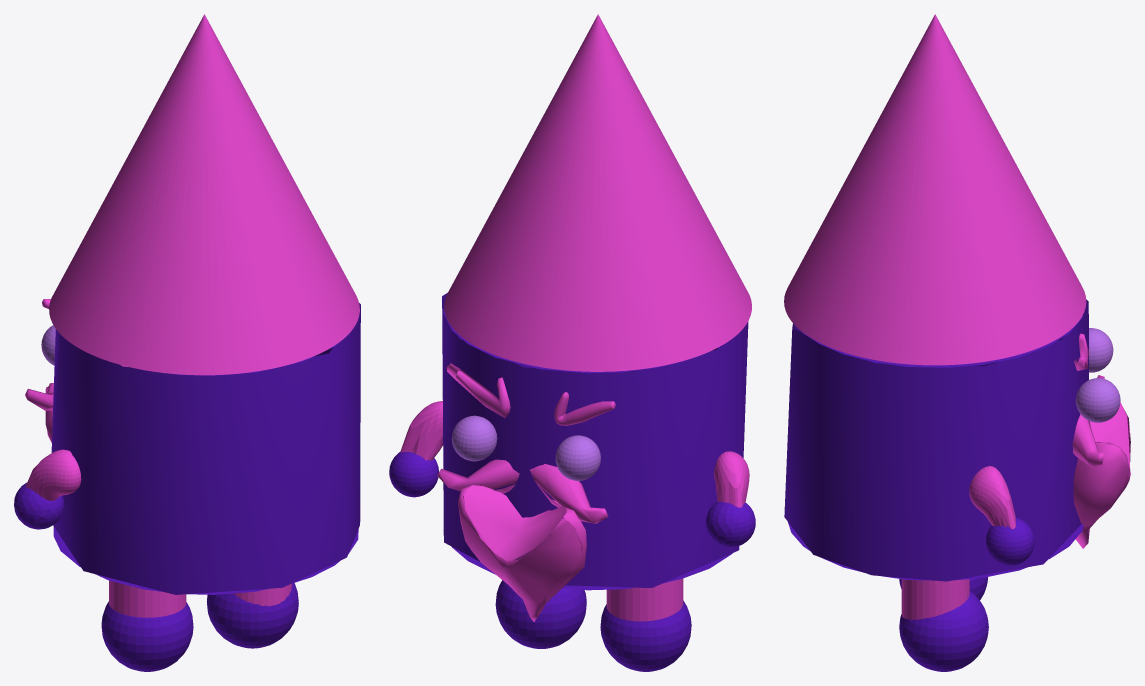
Rendered from gnommeel.fbx.
3 renders of one model, left to right at view 1: azimuth 30°, elevation 25°; view 2: azimuth 150°, elevation 25°; view 3: azimuth 270°, elevation 25°, orthographic. The views are drawn at different scales.
Visible parts, largest first — view 1: mesh_id29, mesh_id27, Сфера.002, Сфера.001, Цилиндр, Сфера.005, Сфера.007, Цилиндр.001, node_id38; view 2: mesh_id27, mesh_id29, node_id38, Сфера.002, Сфера.001, Цилиндр, Сфера.007, Сфера.006, Сфера, Сфера.003, Сфера.004, Сфера.005 (+2 smaller); view 3: mesh_id27, mesh_id29, node_id38, Сфера.001, Цилиндр.001, Сфера, Сфера.006, Сфера.003, Сфера.004.
Boxes of the visible parts, x1,y1,x2,y2 form: mesh_id29: (51, 303, 360, 594); mesh_id27: (49, 14, 359, 375); Сфера.002: (101, 601, 193, 671); Сфера.001: (207, 583, 298, 648); Цилиндр: (109, 580, 186, 617); Сфера.005: (26, 449, 81, 500); Сфера.007: (14, 482, 64, 529); Цилиндр.001: (234, 583, 291, 606); node_id38: (25, 365, 127, 442); mesh_id27: (444, 14, 751, 371); mesh_id29: (442, 293, 748, 590); node_id38: (437, 459, 608, 621); Сфера.002: (600, 600, 691, 671); Сфера.001: (495, 580, 586, 648); Цилиндр: (606, 578, 683, 621); Сфера.007: (706, 501, 755, 547); Сфера.006: (389, 452, 438, 497); Сфера: (400, 401, 443, 460); Сфера.003: (451, 415, 497, 461); Сфера.004: (555, 435, 600, 480); Сфера.005: (714, 451, 749, 507); mesh_id27: (784, 14, 1086, 365); mesh_id29: (784, 299, 1088, 581); node_id38: (1072, 375, 1130, 548); Сфера.001: (899, 591, 988, 671); Цилиндр.001: (901, 579, 969, 619); Сфера: (969, 466, 1015, 529); Сфера.006: (985, 517, 1034, 565); Сфера.003: (1075, 378, 1120, 422); Сфера.004: (1089, 328, 1113, 372).
Bounding box in the file's own units: 107 × 193 × 96.7.
